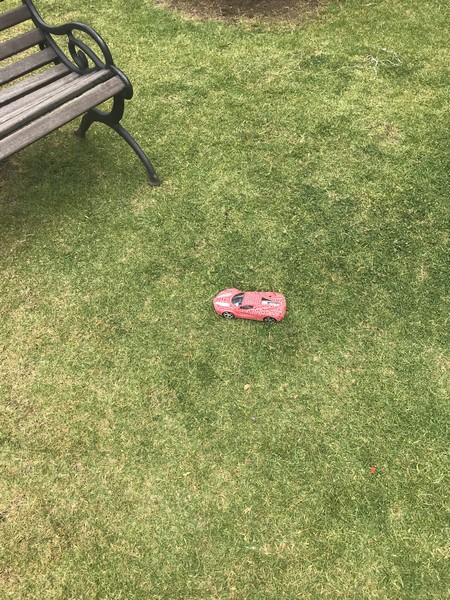RC: (212, 287, 289, 326)
